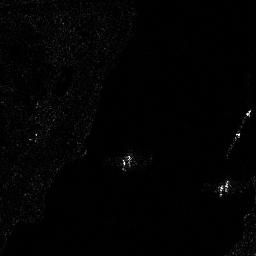ship: (235, 108, 251, 138)
